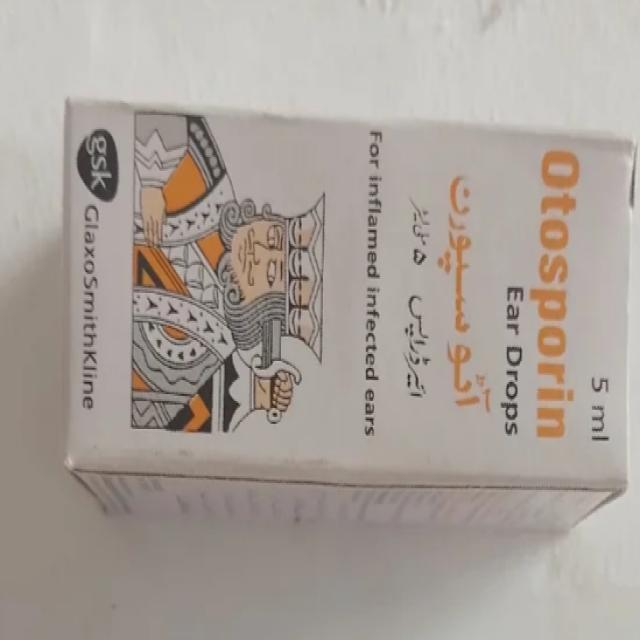drug-name: (529, 150, 585, 446)
